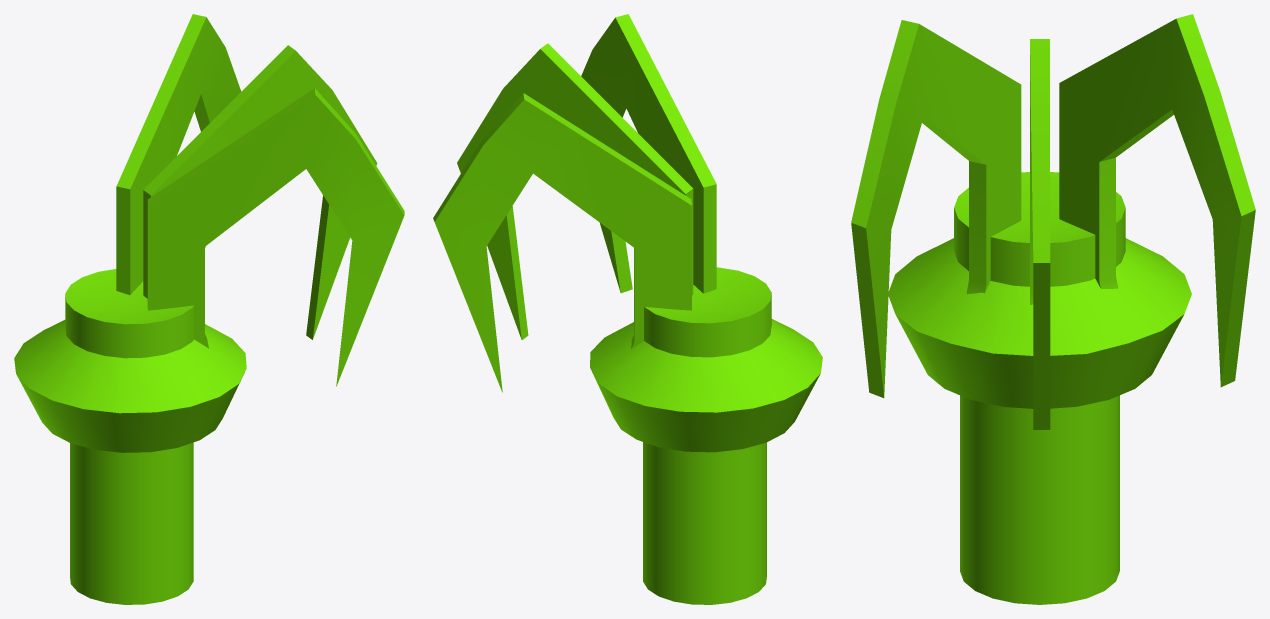
File: close_hook.fbx
3 renders of one model, left to right at view 1: azimuth 30°, elevation 25°; view 2: azimuth 150°, elevation 25°; view 3: azimuth 270°, elevation 25°, orthographic. The views are drawn at different scales.
Parts seen in each view (by area): view 1: polySurface4; view 2: polySurface4; view 3: polySurface4.
Part boxes in pixels (x1,y1,x2,y2): polySurface4: (14,14,404,604); polySurface4: (433,14,822,604); polySurface4: (851,14,1255,604).
Size of the model in its own units: 0.098 by 0.1333 by 0.0773.
